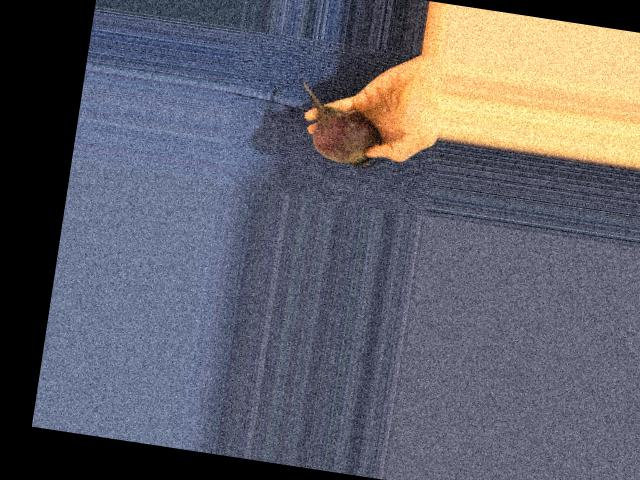beet: (291, 80, 388, 171)
